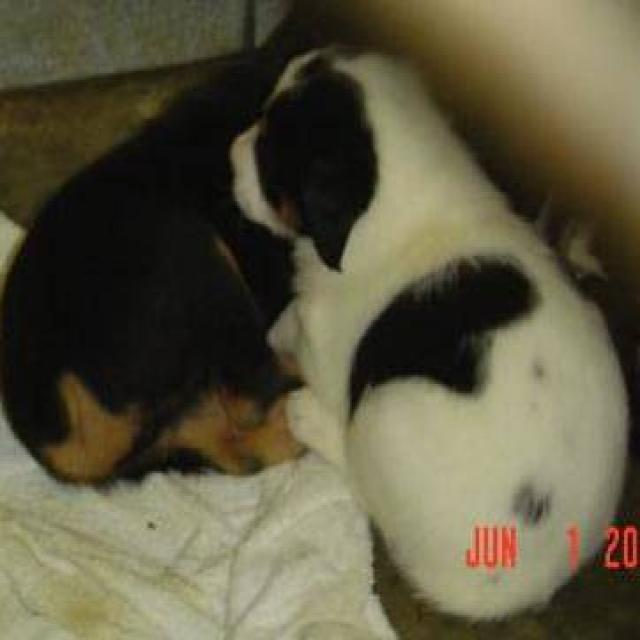Dog: (227, 37, 375, 272)
